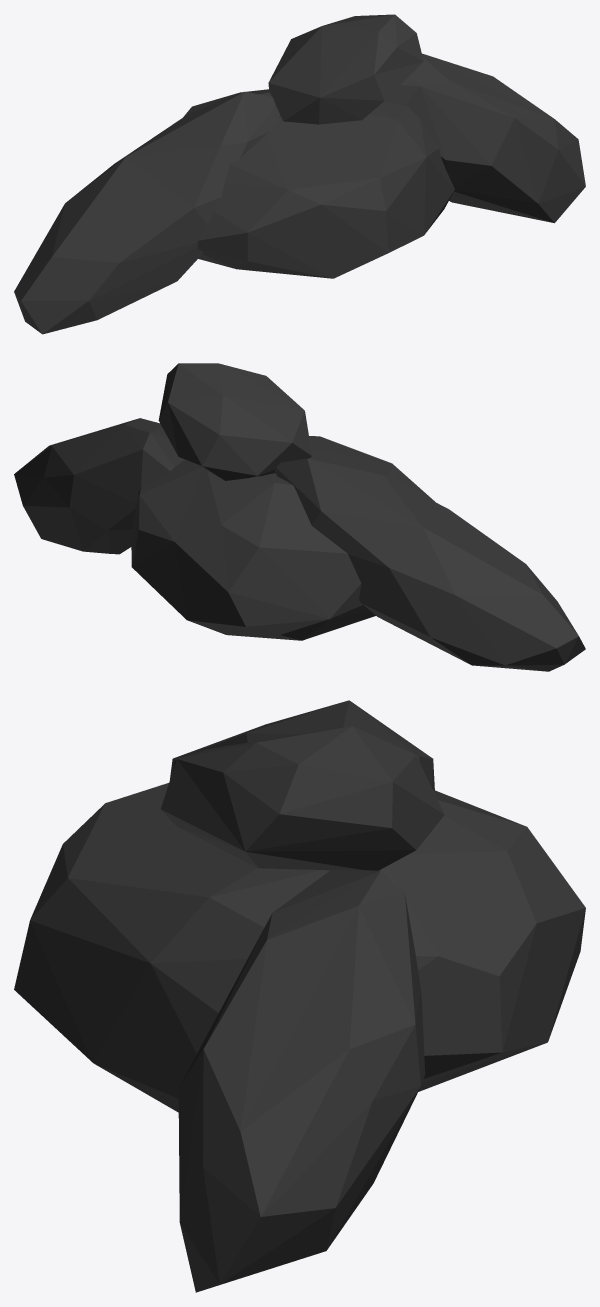
The model's file is pedraGrup2.fbx.
3 views of the same model, one above another, from view 1: azimuth 30°, elevation 25°; view 2: azimuth 150°, elevation 25°; view 3: azimuth 270°, elevation 25° (orthographic). The views are drawn at different scales.
Visible parts, largest first — view 1: pedraGrup2; view 2: pedraGrup2; view 3: pedraGrup2.
Part boxes in pixels (<box>): pedraGrup2: <box>14,14,585,334</box>; pedraGrup2: <box>14,363,585,671</box>; pedraGrup2: <box>14,700,585,1292</box>.
Size of the model in its own units: 785 by 300 by 376.
